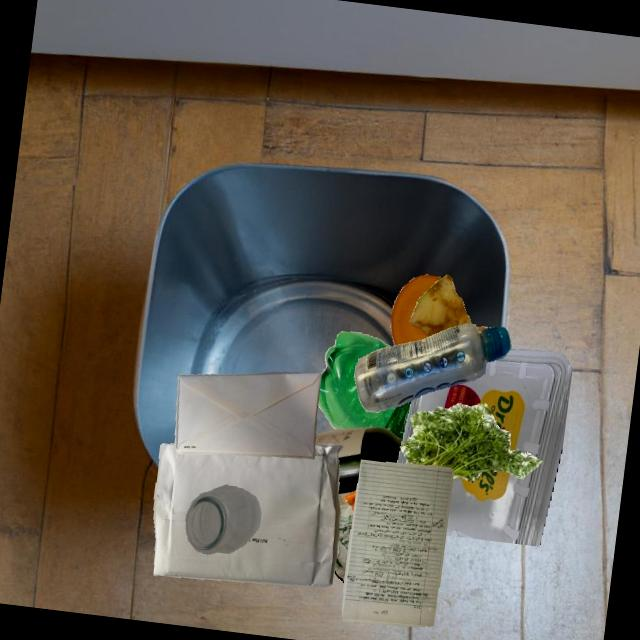biowaste: (399, 401, 542, 482), (409, 274, 472, 337)
glass: (315, 426, 402, 506), (185, 484, 261, 554)
paper: (153, 443, 344, 587), (341, 460, 453, 626), (174, 371, 321, 458), (334, 504, 353, 585)
plastic: (401, 348, 572, 546), (354, 323, 511, 412), (317, 331, 411, 439), (390, 274, 441, 345), (225, 374, 226, 374)
